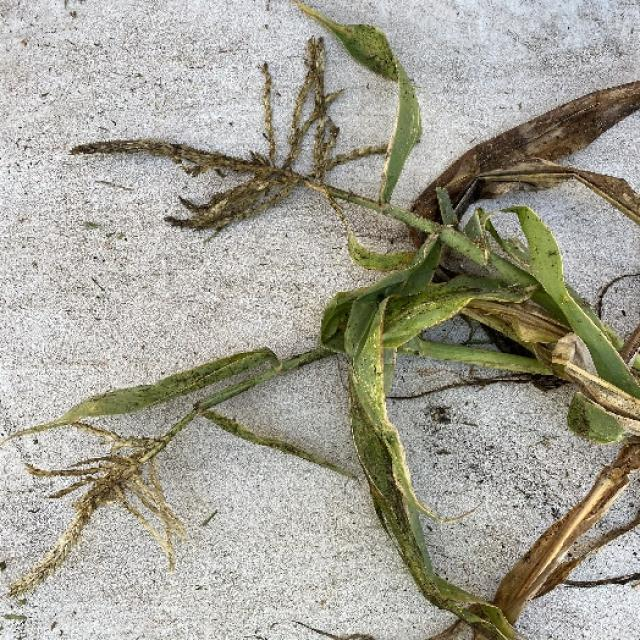organik: (91, 56, 640, 619)
